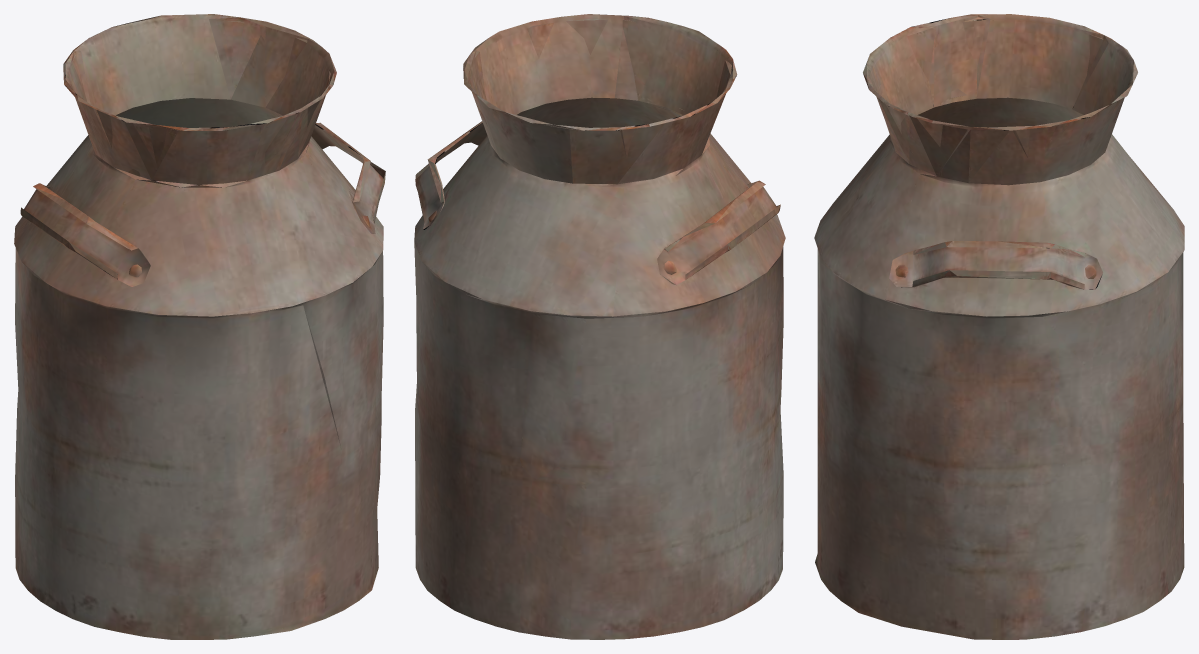
The model's file is metal_jug.glb.
The picture shows the model from 3 angles, left to right: view 1: azimuth 30°, elevation 25°; view 2: azimuth 150°, elevation 25°; view 3: azimuth 270°, elevation 25°; orthographic projection.
Parts seen in each view (by area): view 1: metal_jug; view 2: metal_jug; view 3: metal_jug.
Part boxes in pixels (bbox=[...]): metal_jug: bbox=[14, 14, 385, 639]; metal_jug: bbox=[414, 14, 785, 639]; metal_jug: bbox=[814, 14, 1184, 639].
Size of what is drawn, in the model's own units: 0.197 by 0.2875 by 0.1958.
Materials: 1 (1 with a texture image).
